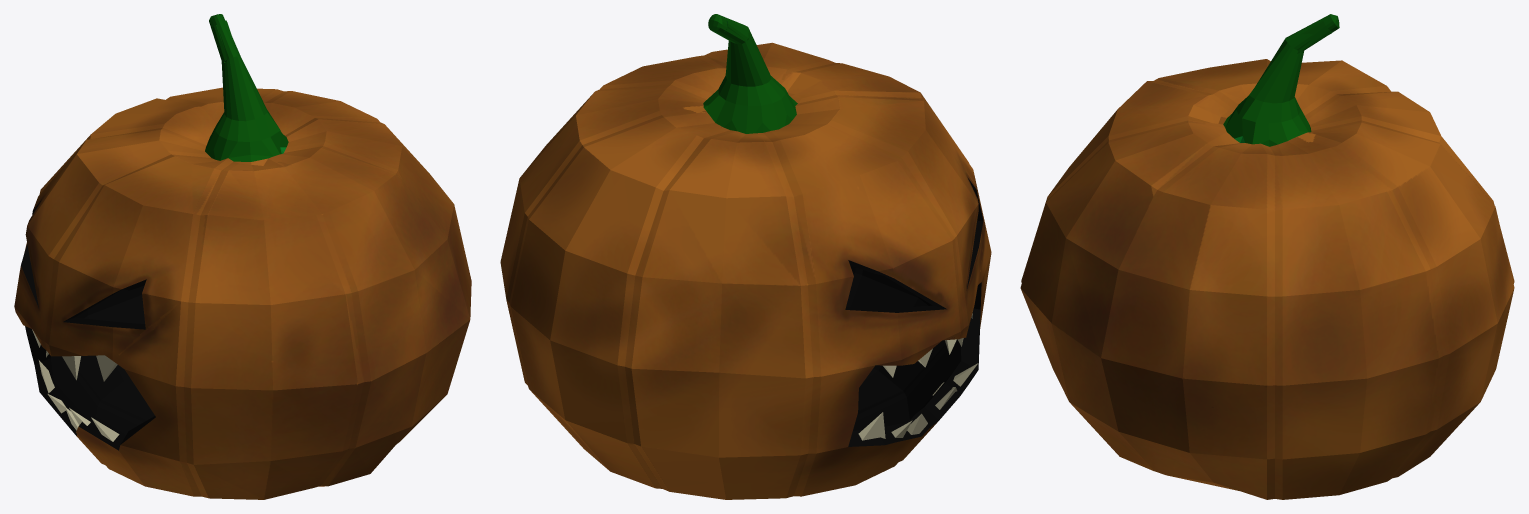
Rendered from Pumpkin Final Boss.fbx.
3 views of the same model, side by side, from view 1: azimuth 30°, elevation 25°; view 2: azimuth 150°, elevation 25°; view 3: azimuth 270°, elevation 25° (orthographic). The views are drawn at different scales.
Visible parts, largest first — view 1: Sphere.019; view 2: Sphere.019; view 3: Sphere.019.
Part boxes in pixels (x1,y1,x2,y2): Sphere.019: (14, 14, 471, 499); Sphere.019: (500, 14, 991, 499); Sphere.019: (1020, 14, 1514, 499).
Size of the model in its own units: 1460 by 1498 by 1505.
